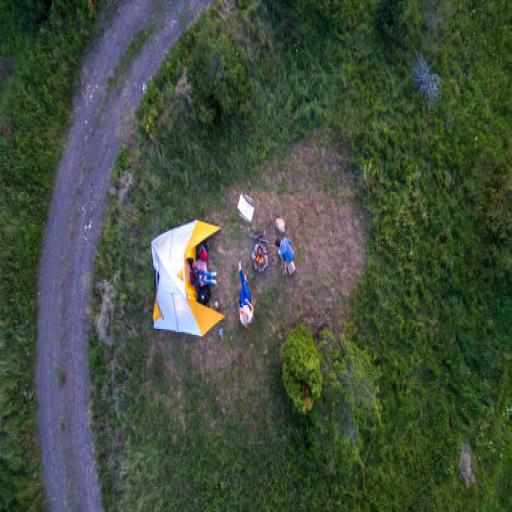tent: (149, 218, 226, 352)
